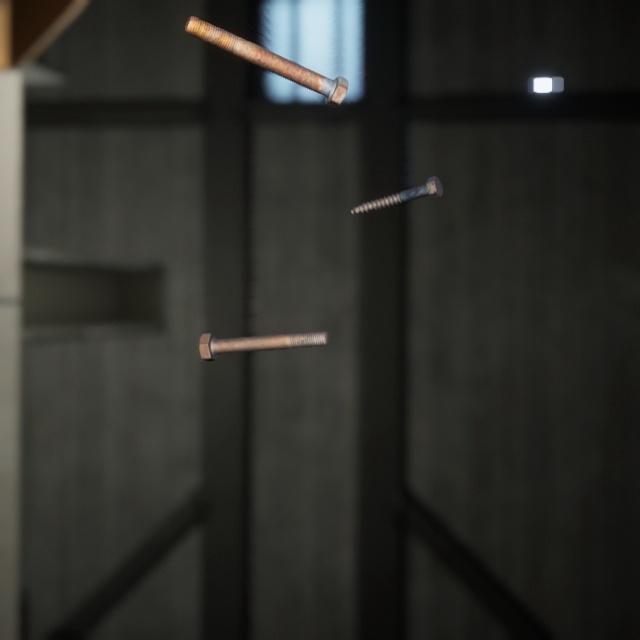bolt: (179, 1, 353, 101), (194, 307, 334, 346), (346, 157, 447, 204)
